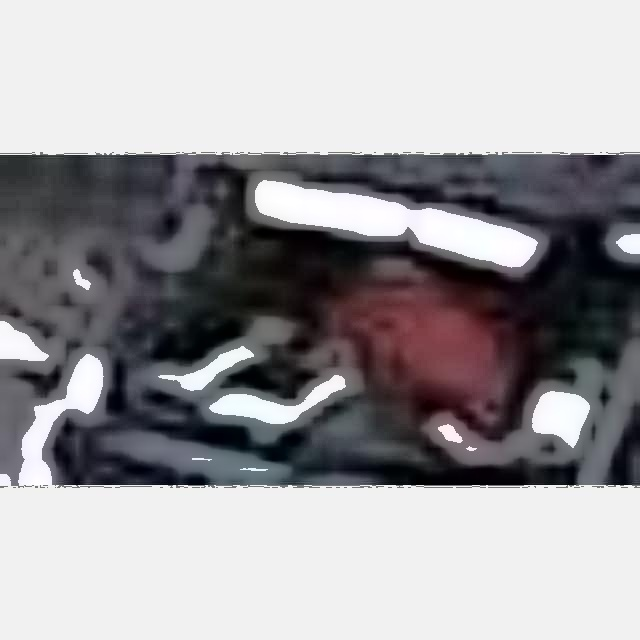tidak-pakai: (268, 258, 485, 444)
